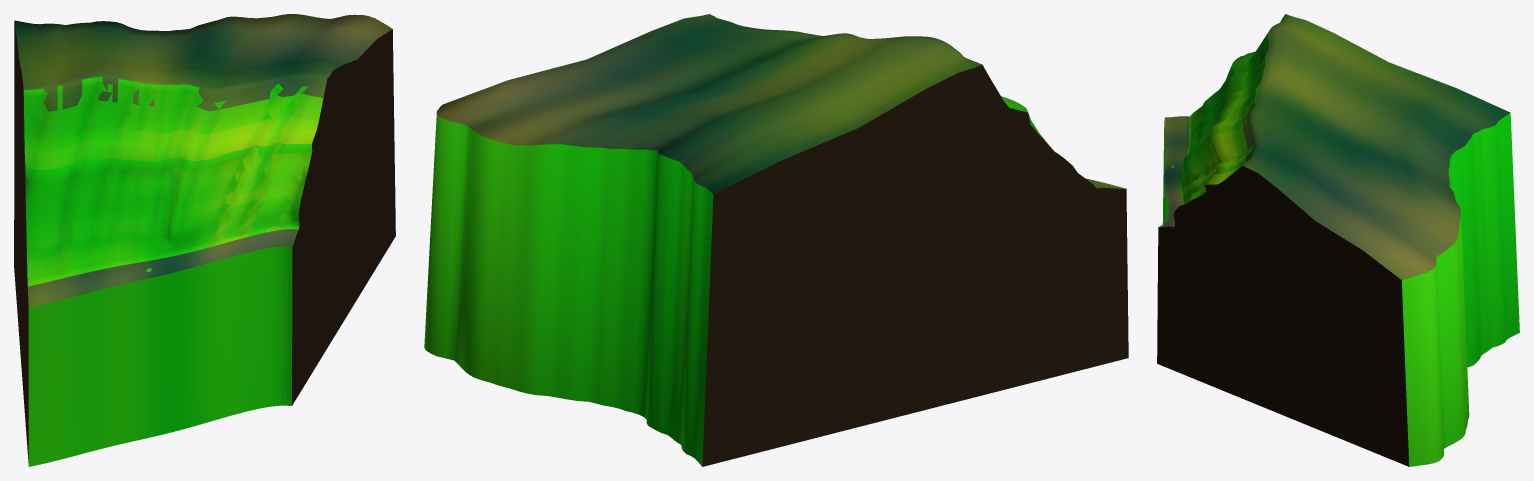
The model's file is SM_ForestRisingCliffs_15.fbx.
3 renders of one model, left to right at view 1: azimuth 30°, elevation 25°; view 2: azimuth 150°, elevation 25°; view 3: azimuth 270°, elevation 25°, orthographic. The views are drawn at different scales.
Parts seen in each view (by area): view 1: SM_ForestRisingCliffs_15; view 2: SM_ForestRisingCliffs_15; view 3: SM_ForestRisingCliffs_15.
Boxes of the visible parts, left/top/right/bottom form: SM_ForestRisingCliffs_15: left=14, top=14, right=395, bottom=466; SM_ForestRisingCliffs_15: left=424, top=14, right=1128, bottom=466; SM_ForestRisingCliffs_15: left=1157, top=14, right=1519, bottom=466.
Bounding box in the file's own units: 82.77 × 58.97 × 48.79.
